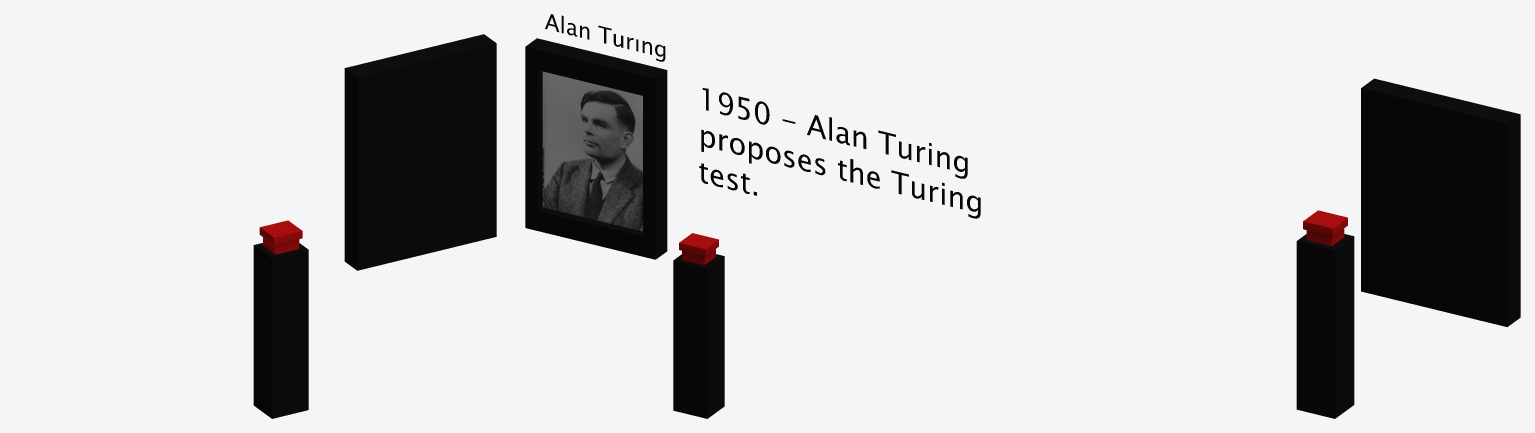
The model's file is 2_1950_one.gltf.
The picture shows the model from 3 angles, left to right: view 1: azimuth 30°, elevation 25°; view 2: azimuth 150°, elevation 25°; view 3: azimuth 330°, elevation 25°; orthographic projection. The views are drawn at different scales.
Visible parts, largest first — view 1: typeMesh20, polySurface4138; view 2: typeMesh20, polySurface4138; view 3: typeMesh20, polySurface4138.
Part boxes in pixels (bbox=[...]): typeMesh20: bbox=[344, 34, 496, 270]; polySurface4138: bbox=[253, 220, 308, 418]; typeMesh20: bbox=[525, 14, 980, 259]; polySurface4138: bbox=[673, 233, 724, 418]; typeMesh20: bbox=[1361, 78, 1520, 327]; polySurface4138: bbox=[1296, 210, 1354, 418].
Size of what is drawn, in the model's own units: 5.41 by 3.95 by 0.5956.
4 materials, 1 textured.
